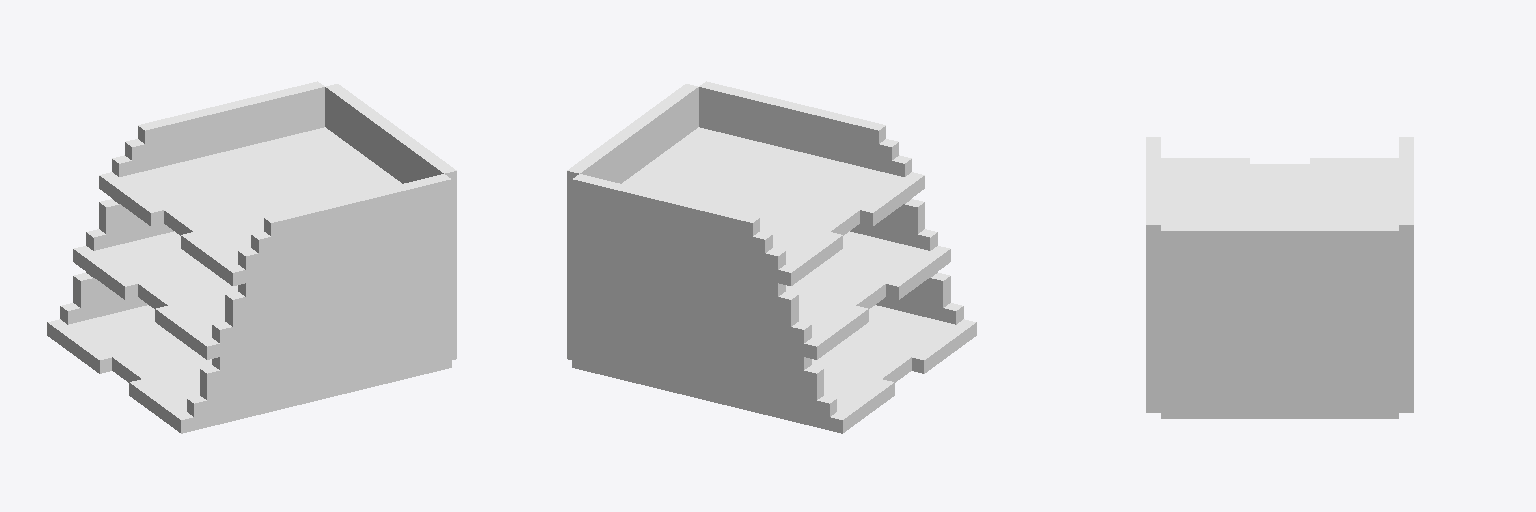
File: papercont.obj
The picture shows the model from 3 angles: view 1: azimuth 30°, elevation 25°; view 2: azimuth 150°, elevation 25°; view 3: azimuth 270°, elevation 25°; orthographic projection.
Parts seen in each view (by area): view 1: papercont; view 2: papercont; view 3: papercont.
Part boxes in pixels (left/top/right/bottom): papercont: left=47, top=81, right=456, bottom=433; papercont: left=567, top=81, right=976, bottom=433; papercont: left=1146, top=137, right=1413, bottom=418.
Size of the model in its own units: 22 by 14 by 18.